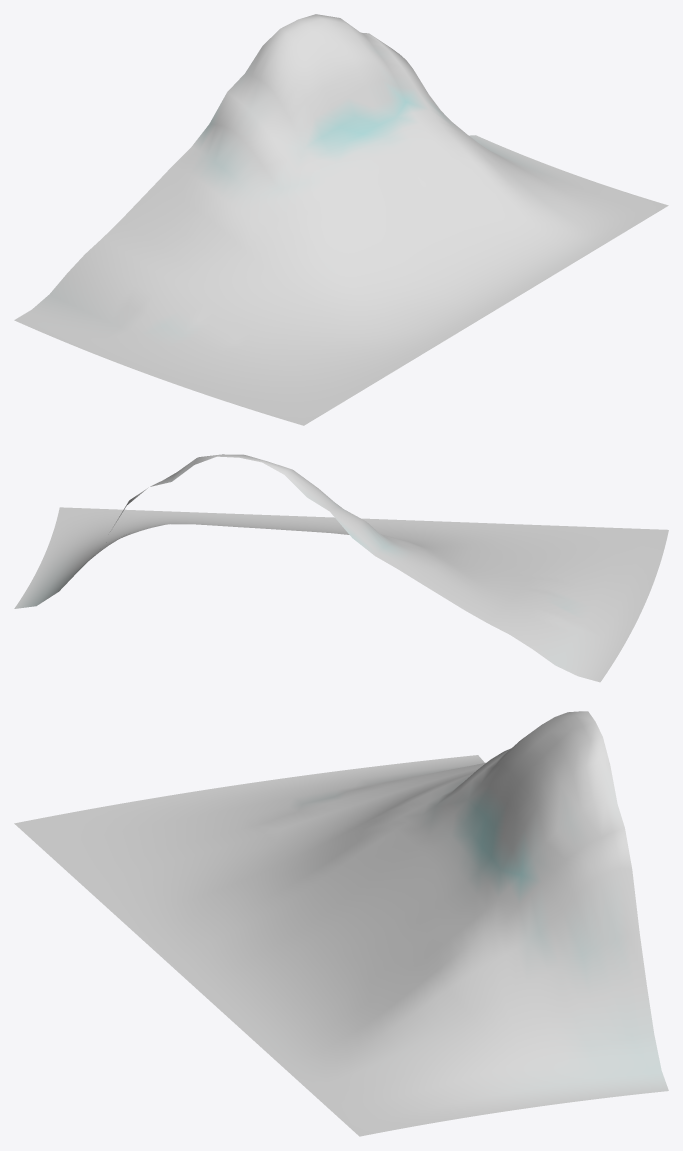
The model's file is near_0.glb.
The picture shows the model from 3 angles, top to bottom: view 1: azimuth 30°, elevation 25°; view 2: azimuth 150°, elevation 25°; view 3: azimuth 270°, elevation 25°; orthographic projection. The views are drawn at different scales.
Visible parts, largest first — view 1: Mountain; view 2: Mountain; view 3: Mountain.
Part boxes in pixels (x1,y1,x2,y2): Mountain: (14,14,668,425); Mountain: (14,454,668,682); Mountain: (14,711,668,1136).
Size of the model in its own units: 387 by 113 by 280.
